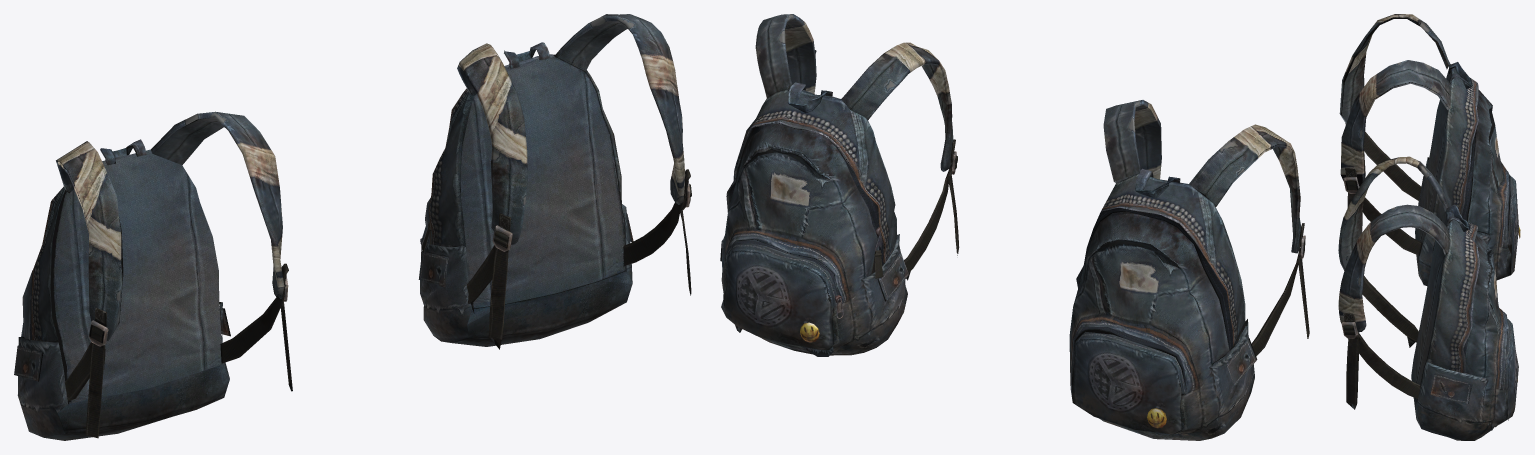
Rendered from PunkBackpack.obj.
3 views of the same model, side by side, from view 1: azimuth 30°, elevation 25°; view 2: azimuth 150°, elevation 25°; view 3: azimuth 270°, elevation 25° (orthographic). The views are drawn at different scales.
Visible parts, largest first — view 1: highpoly_Mesh0, lowpoly_Mesh1; view 2: highpoly_Mesh0, lowpoly_Mesh1; view 3: highpoly_Mesh0, lowpoly_Mesh1.
Boxes of the visible parts, box(x1,y1,x2,y2) form: highpoly_Mesh0: box(418, 14, 691, 349); lowpoly_Mesh1: box(14, 111, 292, 440); highpoly_Mesh0: box(720, 14, 959, 356); lowpoly_Mesh1: box(1069, 100, 1309, 440); highpoly_Mesh0: box(1338, 156, 1518, 440); lowpoly_Mesh1: box(1339, 14, 1520, 285).
Size of the model in its own units: 0.8665 by 0.4528 by 0.3091.
Materials: 2 (2 with a texture image).
